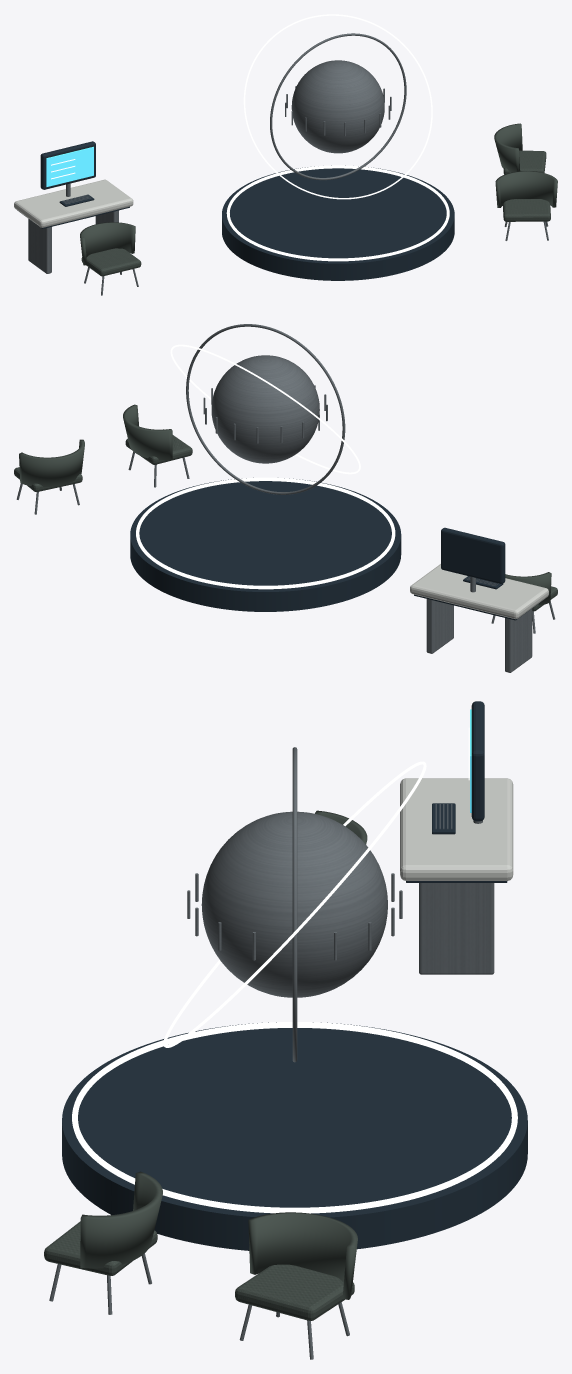
File: top.glb
The picture shows the model from 3 angles, top to bottom: view 1: azimuth 30°, elevation 25°; view 2: azimuth 150°, elevation 25°; view 3: azimuth 270°, elevation 25°; orthographic projection. The views are drawn at different scales.
Parts seen in each view (by area): view 1: Static_top, Float_Core, Spin_OrbitA, Spin_OrbitB; view 2: Static_top, Float_Core, Spin_OrbitA, Spin_OrbitB; view 3: Static_top, Float_Core, Spin_OrbitB, Spin_OrbitA.
Boxes of the visible parts, box(x1,y1,x2,y2) form: Static_top: box(14, 86, 557, 295); Float_Core: box(291, 60, 384, 153); Spin_OrbitA: box(270, 33, 406, 180); Spin_OrbitB: box(243, 14, 432, 199); Static_top: box(14, 385, 557, 672); Float_Core: box(211, 355, 319, 463); Spin_OrbitA: box(186, 324, 345, 494); Spin_OrbitB: box(170, 344, 360, 474); Static_top: box(44, 701, 527, 1359); Float_Core: box(201, 811, 387, 997); Spin_OrbitB: box(163, 761, 426, 1047); Spin_OrbitA: box(292, 747, 297, 1062).
Bounding box in the file's own units: 10.34 × 4.06 × 4.49.
Materials: 8 (3 with a texture image).
